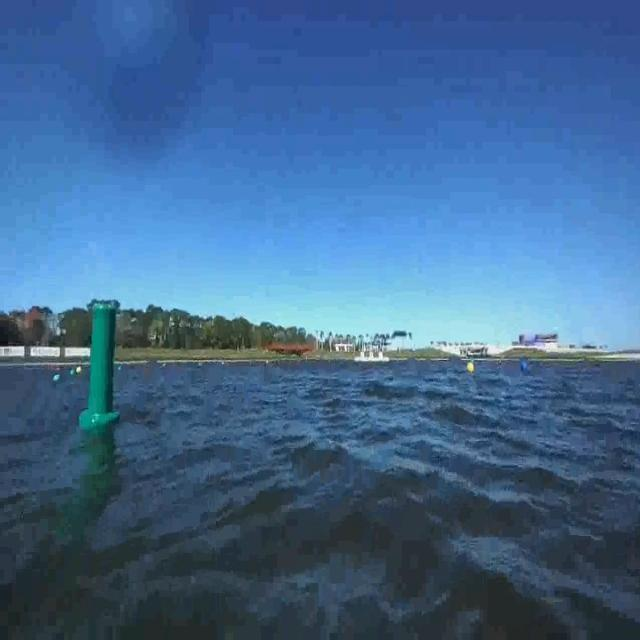blue-buoy: (520, 359, 529, 373)
green-column-buoy: (83, 302, 122, 429)
yellow-buoy: (466, 359, 475, 374)
